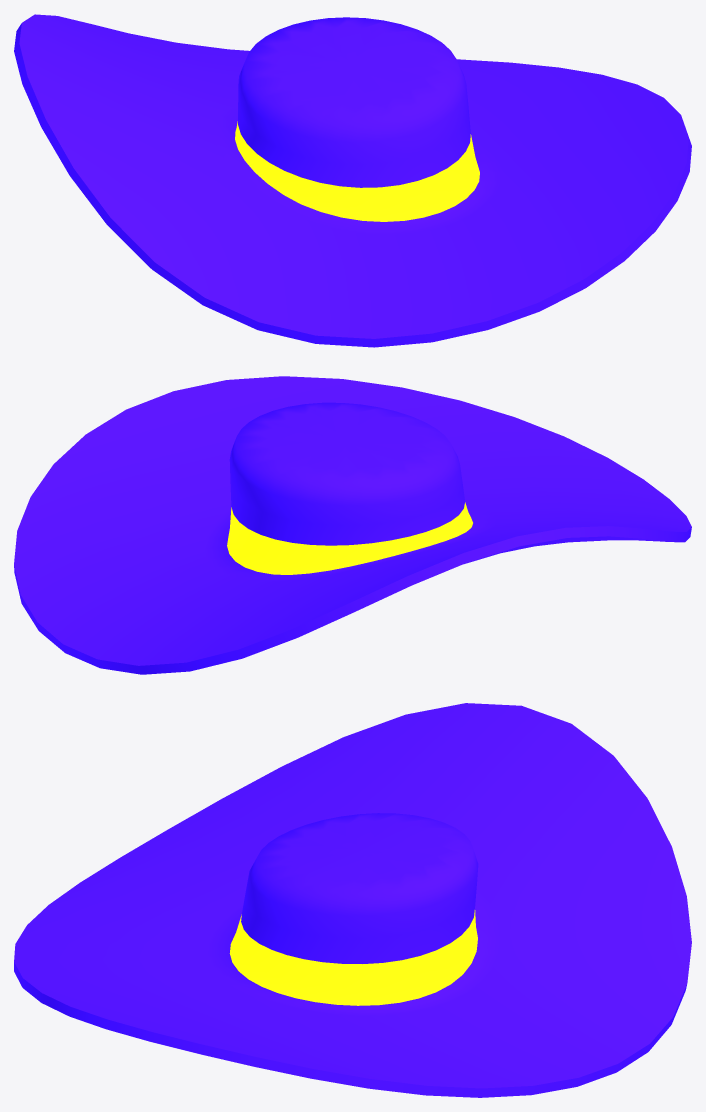
File: Hat2.fbx
3 views of the same model, one above another, from view 1: azimuth 30°, elevation 25°; view 2: azimuth 150°, elevation 25°; view 3: azimuth 270°, elevation 25° (orthographic).
Visible parts, largest first — view 1: Box002; view 2: Box002; view 3: Box002.
Part boxes in pixels (x1,y1,x2,y2): Box002: [14, 14, 691, 347]; Box002: [14, 376, 691, 674]; Box002: [14, 703, 691, 1097].
Bounding box in the file's own units: 0.00867 × 0.00234 × 0.00893.
